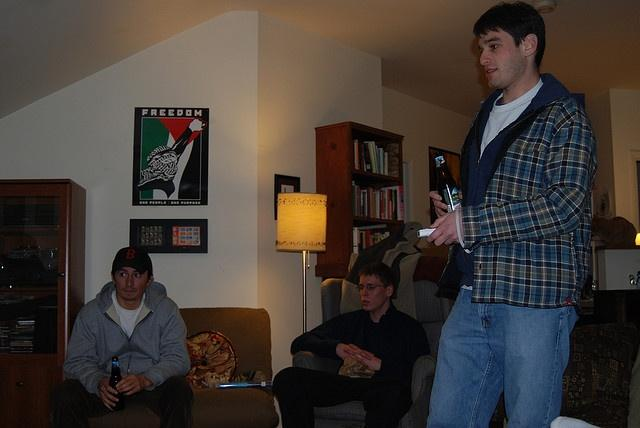Rak: (313, 120, 404, 277)
